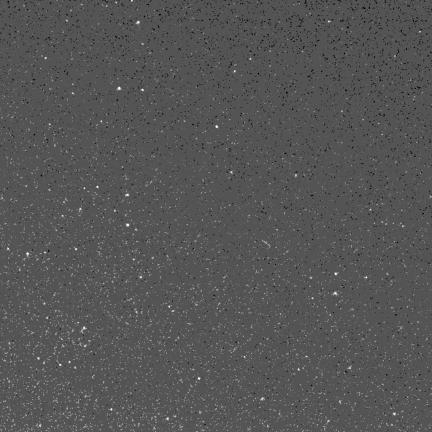blob: (216, 125, 219, 129), (118, 87, 121, 90)
